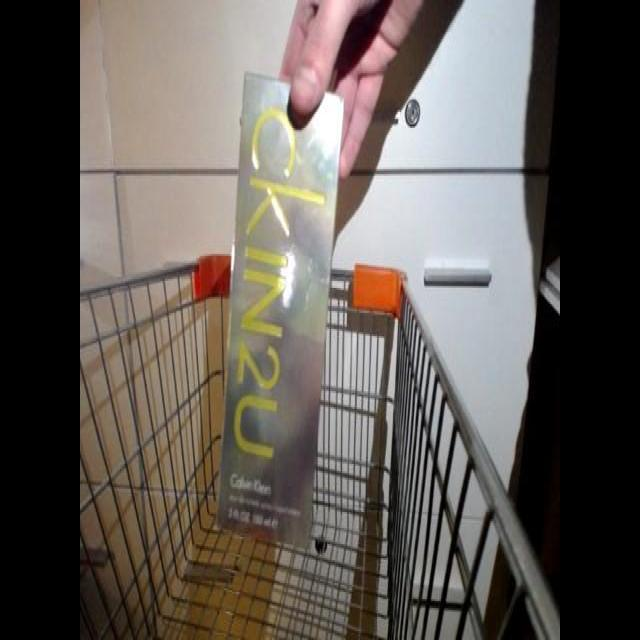Calvin Klein: (213, 71, 349, 549)
